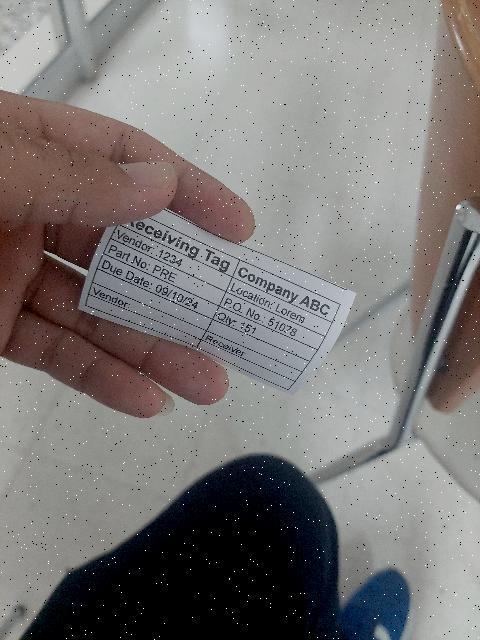PO no: (219, 291, 325, 352)
part no: (102, 238, 226, 306)
qty: (212, 304, 317, 361)
tags: (77, 209, 357, 396)
